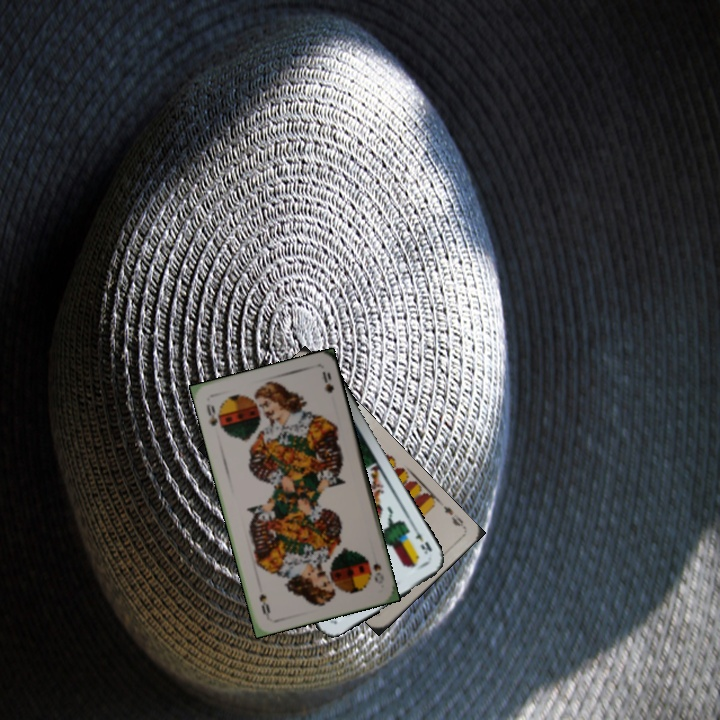E9: (439, 502, 467, 531)
EK: (410, 525, 435, 557)
SO: (363, 553, 387, 587), (202, 400, 220, 429)
